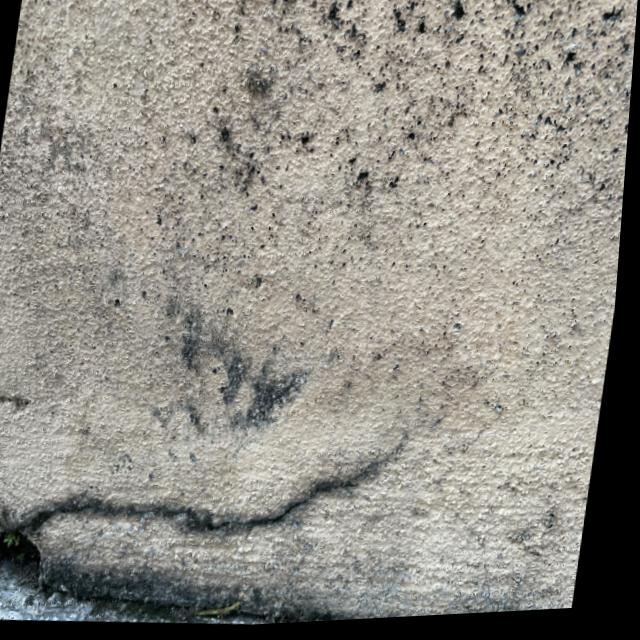Crack: (23, 408, 414, 574)
